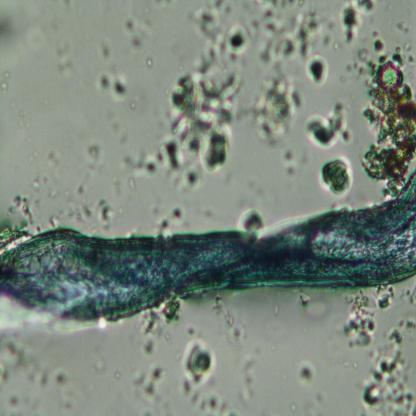Background material: (138, 1, 245, 191), (358, 35, 416, 197), (251, 0, 327, 68), (246, 70, 306, 142), (359, 353, 416, 416), (47, 177, 113, 227), (0, 337, 53, 393), (338, 284, 382, 350), (309, 102, 359, 154), (122, 359, 171, 402), (140, 306, 179, 360), (188, 378, 241, 416), (151, 196, 197, 236), (182, 338, 218, 389), (341, 0, 374, 48), (318, 160, 354, 198), (237, 346, 260, 402), (0, 15, 33, 54), (90, 70, 131, 100), (383, 320, 416, 354), (122, 13, 145, 56), (242, 203, 268, 238), (8, 191, 32, 228), (372, 286, 402, 314), (84, 143, 112, 173), (308, 53, 330, 91), (290, 357, 315, 390), (290, 287, 318, 314), (57, 36, 77, 73), (279, 149, 302, 175), (53, 369, 74, 392), (0, 70, 15, 93), (44, 150, 62, 166), (5, 395, 22, 407), (63, 398, 74, 412)
Cotton: (0, 172, 416, 326)
